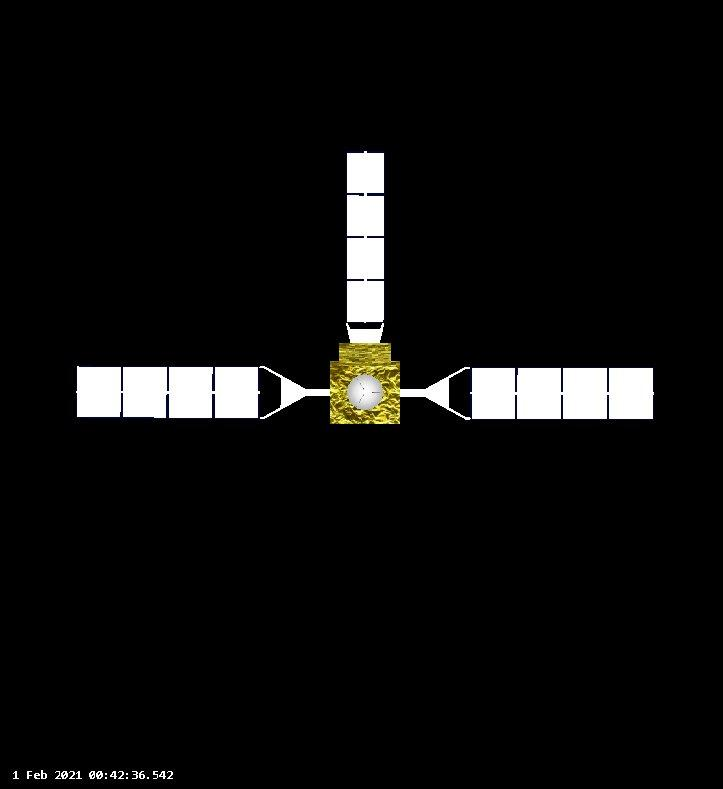antenna: (346, 372, 385, 411)
body: (328, 341, 403, 426)
solar: (74, 364, 261, 421), (470, 366, 655, 422), (344, 150, 386, 324)
